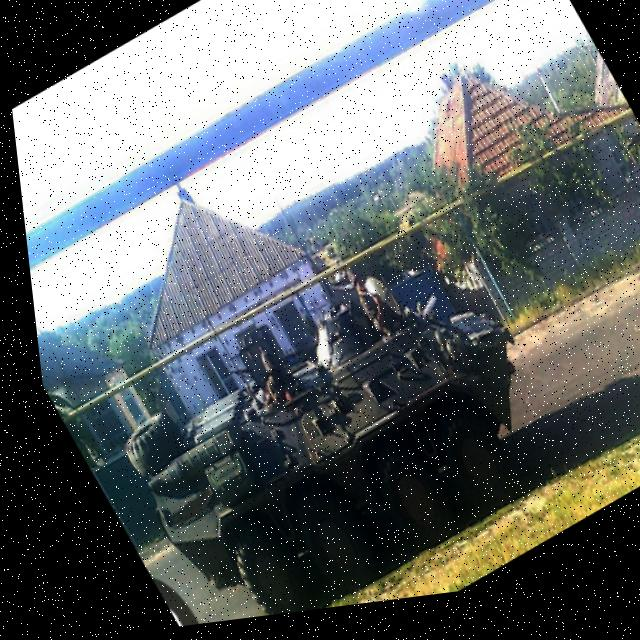MIL_APC: (73, 210, 576, 635)
